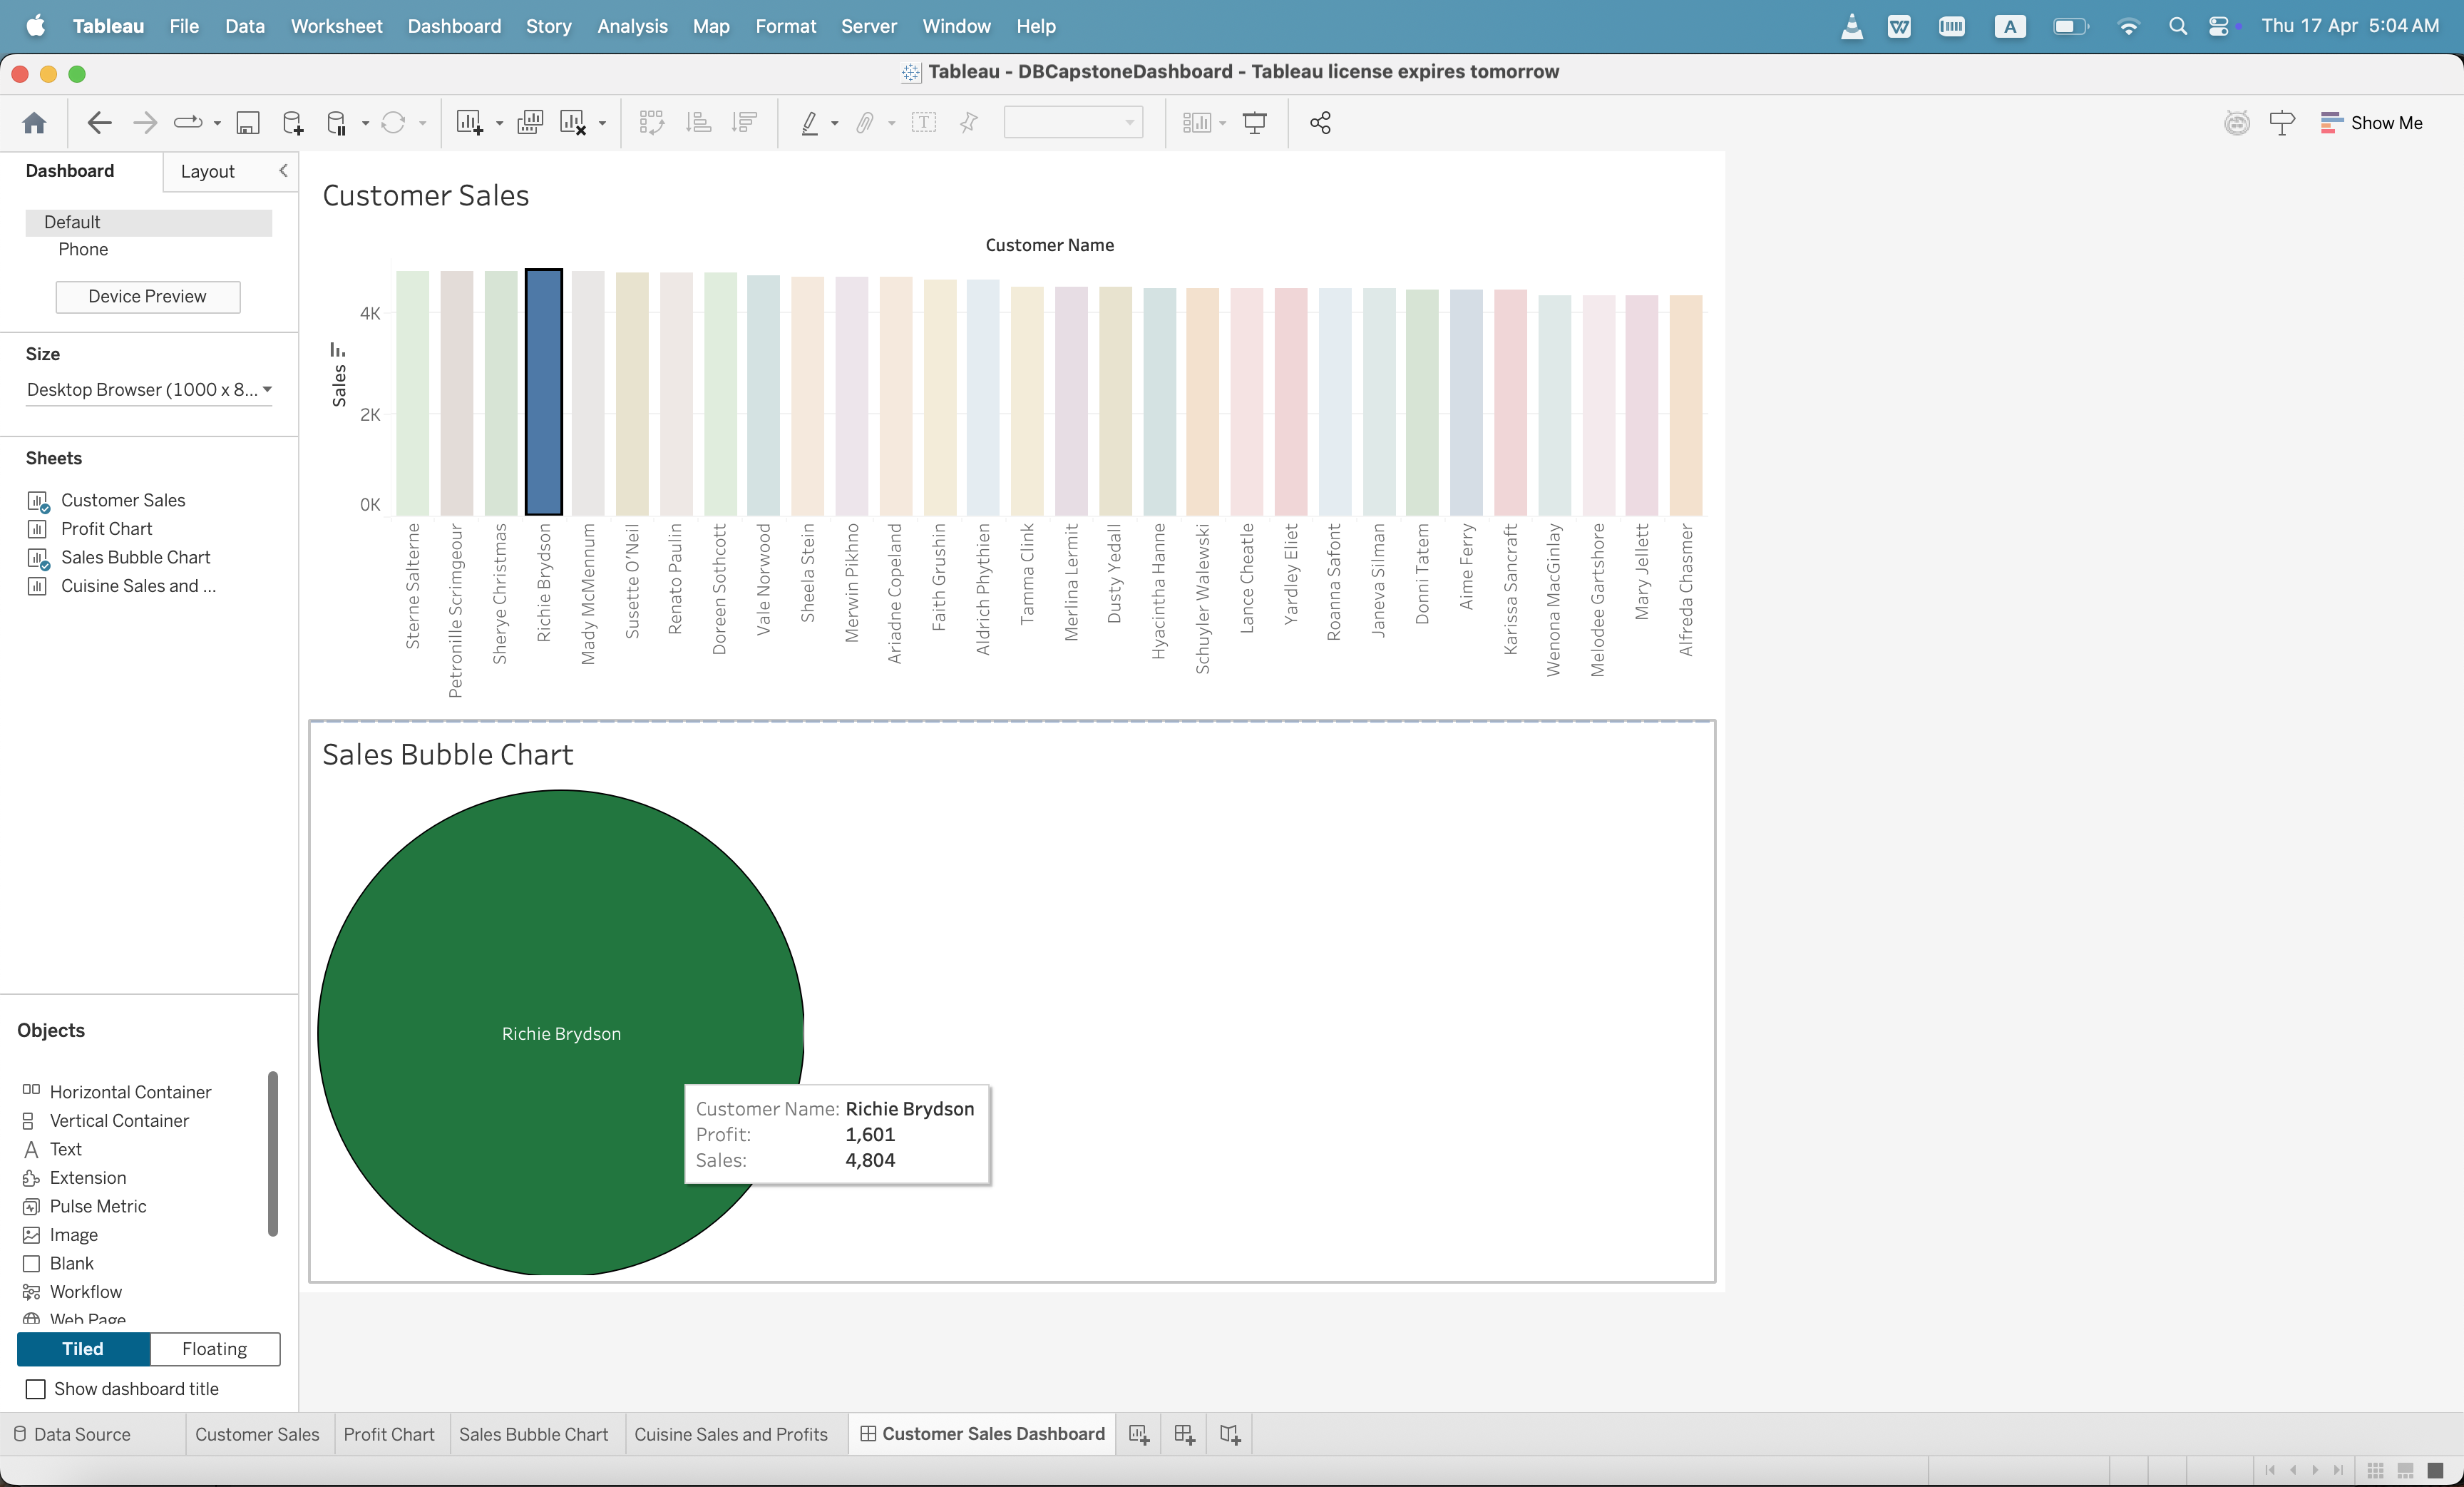

Layout of this report page (visuals, bound fields, positions):
{"tool":"tableau","page":{"name":"Customer Sales Dashboard","canvas":[1000,800],"ordinal":0},"visuals":[{"type":"worksheet","title":"Customer Sales","mark":"Automatic","rows":["Sales"],"cols":["Customer Name"],"box":[8,8,984,392]},{"type":"worksheet","title":"Sales Bubble Chart","mark":"Circle","box":[8,400,984,392]}]}

Visuals, with their boxes on the page's 1000x800 design canvas (x1, y1, x2, y2). These are canvas units, not pixel positions in the 2464x1487 screenshot, which may show the page scaled, cropped or inside an application window:
"Customer Sales" worksheet: detection(8, 8, 992, 400)
"Sales Bubble Chart" worksheet (Circle marks): detection(8, 400, 992, 792)
